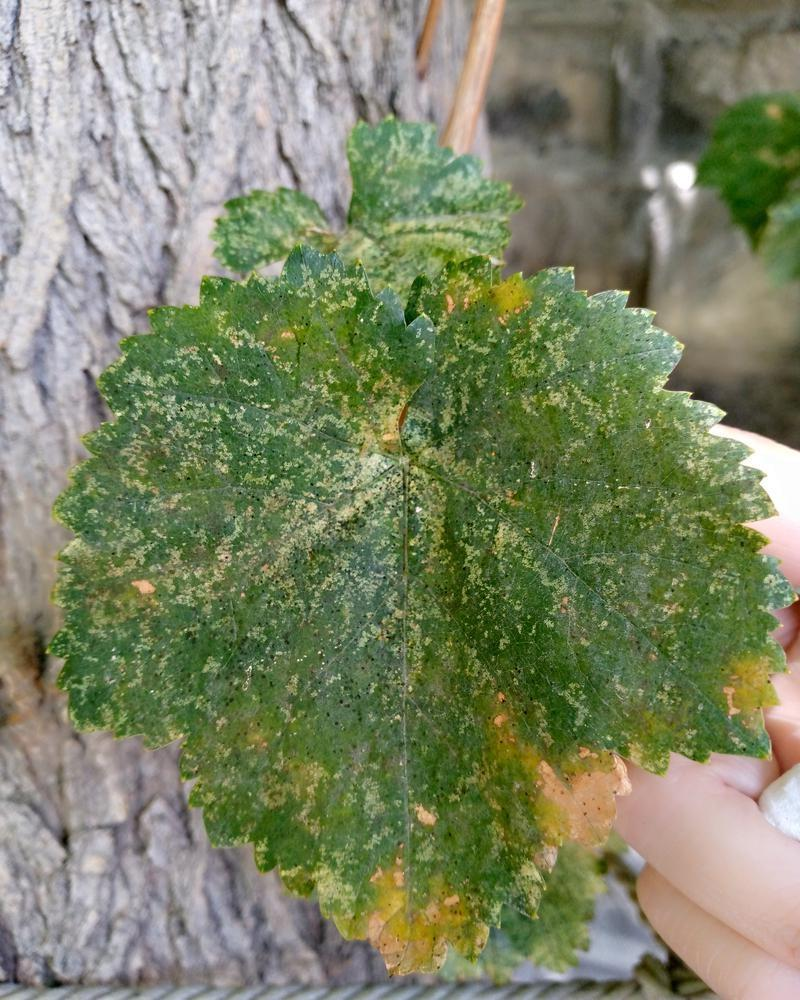Powdery-Mildew: (256, 370, 470, 569), (341, 858, 481, 970), (93, 530, 228, 642), (439, 261, 551, 340), (711, 661, 774, 724)
